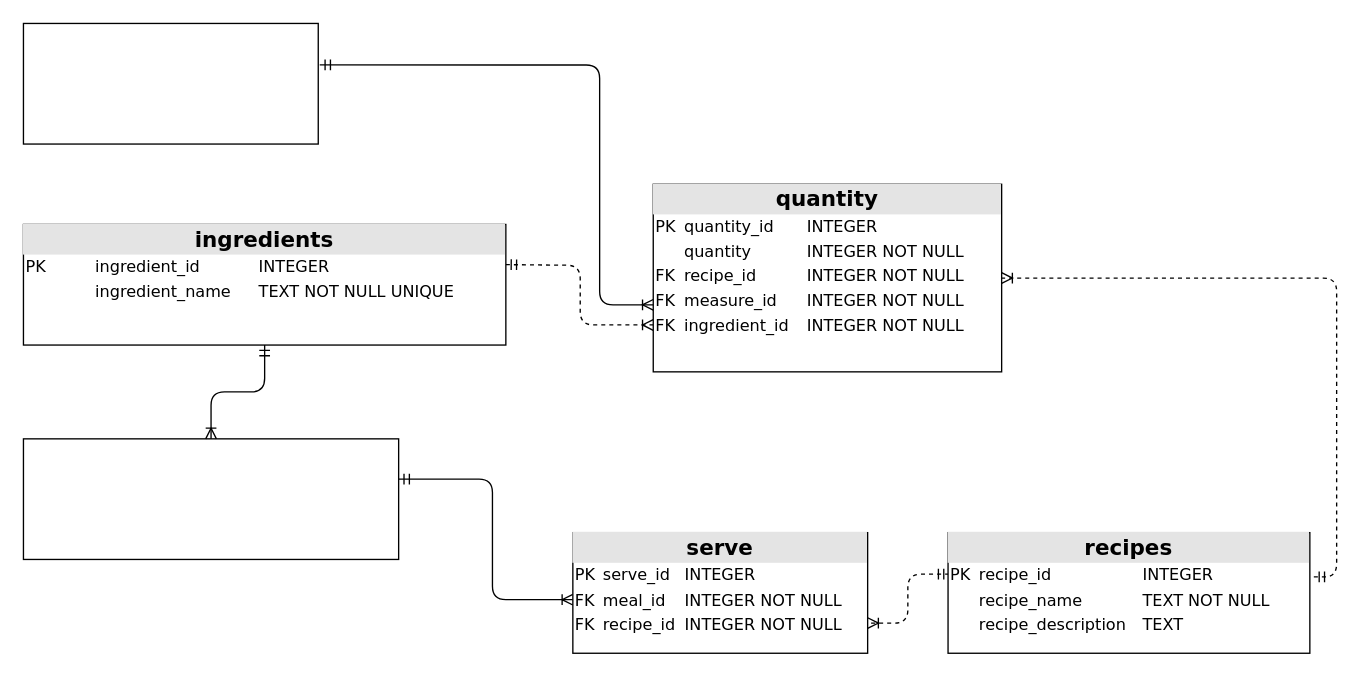
This 1372x677 diagram has some shape labels left out. Each missing label, with the centre of its shape:
meals PK meal_id INTEGER meal_name TEXT NOT NULL UNIQUE: point 210,498
measures PK measure_id INTEGER measure_name TEXT UNIQUE: point 170,83
